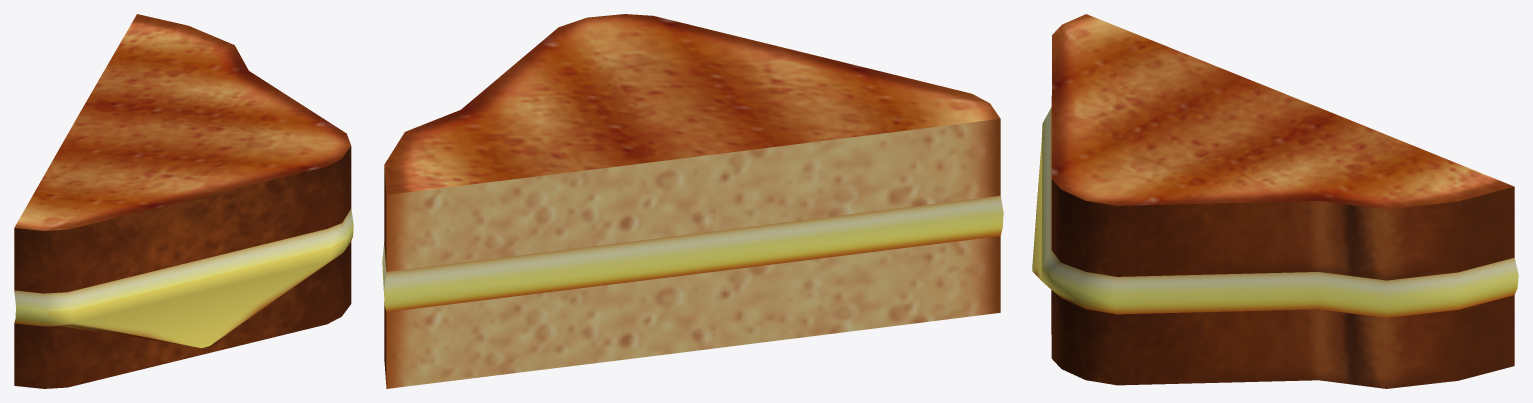
The model's file is 007-Sandwich_Cheese_Half.FBX.
3 views of the same model, side by side, from view 1: azimuth 30°, elevation 25°; view 2: azimuth 150°, elevation 25°; view 3: azimuth 270°, elevation 25° (orthographic). The views are drawn at different scales.
Parts seen in each view (by area): view 1: 007-Sandwich_Cheese_Half; view 2: 007-Sandwich_Cheese_Half; view 3: 007-Sandwich_Cheese_Half.
Part boxes in pixels (bbox=[...]): 007-Sandwich_Cheese_Half: bbox=[14, 14, 353, 388]; 007-Sandwich_Cheese_Half: bbox=[382, 14, 1003, 388]; 007-Sandwich_Cheese_Half: bbox=[1032, 14, 1518, 388].
Bounding box in the file's own units: 15.78 × 6.74 × 16.56.
